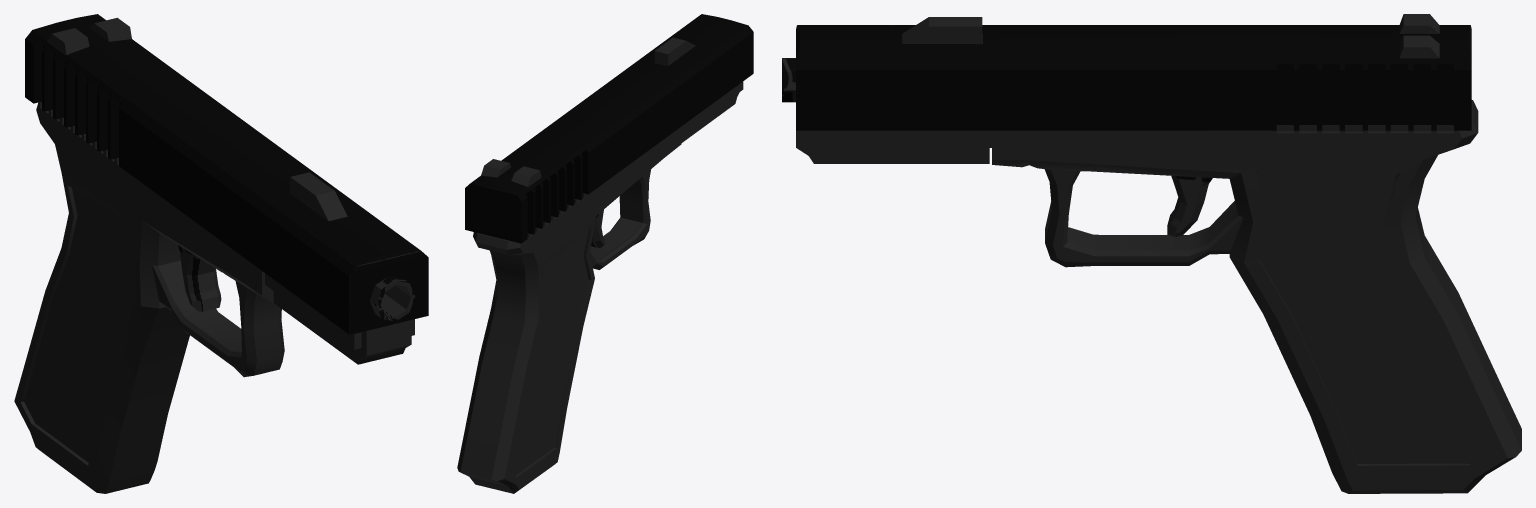
Rendered from Gun03 (1).glb.
The picture shows the model from 3 angles, left to right: view 1: azimuth 30°, elevation 25°; view 2: azimuth 150°, elevation 25°; view 3: azimuth 270°, elevation 25°; orthographic projection. The views are drawn at different scales.
Visible parts, largest first — view 1: Cube, Cube.002, Cylinder; view 2: Cube, Cube.002; view 3: Cube, Cube.002.
Part boxes in pixels (x1,y1,x2,y2): Cube: (14, 14, 428, 493); Cube.002: (178, 245, 221, 311); Cylinder: (369, 275, 415, 321); Cube: (457, 14, 753, 493); Cube.002: (591, 210, 605, 247); Cube: (796, 14, 1521, 493); Cube.002: (1167, 175, 1212, 236).
Size of the model in its own units: 0.2099 by 1.12 by 1.64.
Materials: 2 (2 with a texture image).
